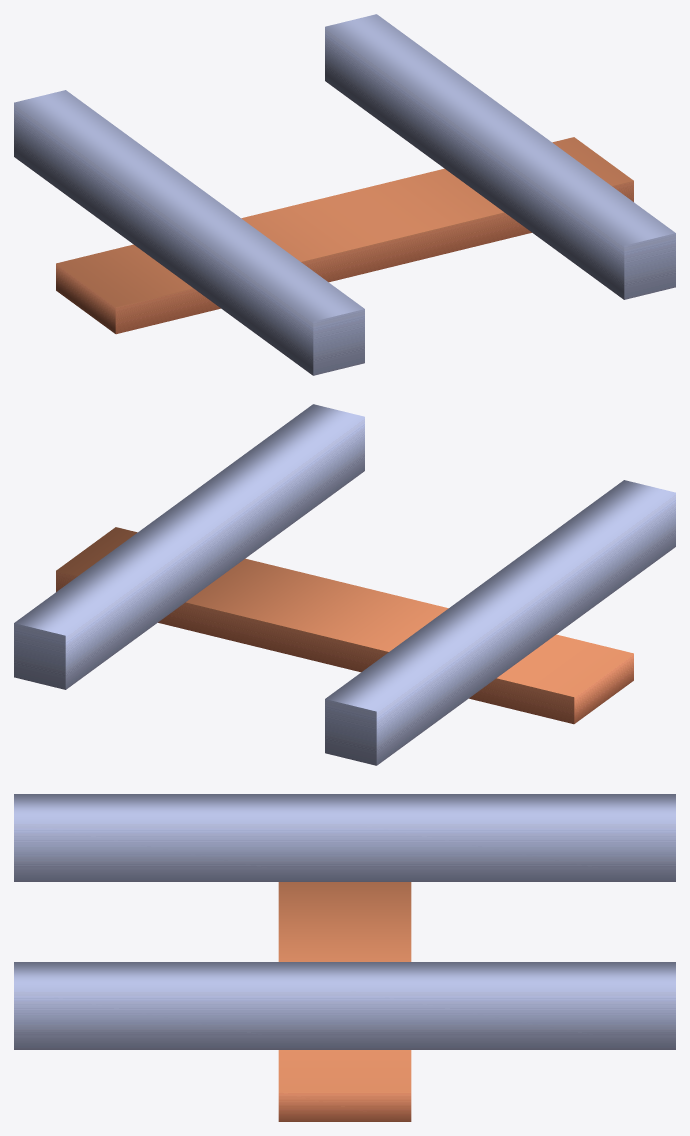
The model's file is track-single.glb.
The picture shows the model from 3 angles, top to bottom: view 1: azimuth 30°, elevation 25°; view 2: azimuth 150°, elevation 25°; view 3: azimuth 270°, elevation 25°; orthographic projection. The views are drawn at different scales.
Parts seen in each view (by area): view 1: track-single; view 2: track-single; view 3: track-single.
Boxes of the visible parts, x1,y1,x2,y2 form: track-single: (14,14,675,375); track-single: (14,404,675,765); track-single: (14,794,675,1121).
Size of the model in its own units: 1 by 0.15 by 1.
1 material, 1 textured.
